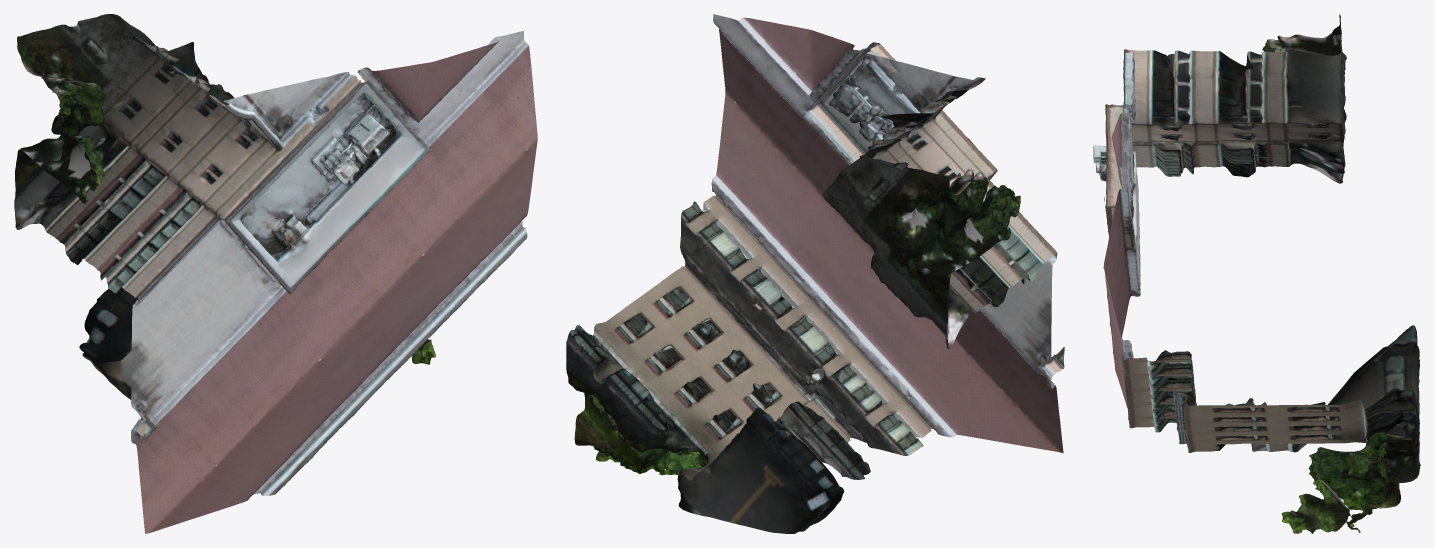
Rendered from Tile_+005_+024.fbx.
3 renders of one model, left to right at view 1: azimuth 30°, elevation 25°; view 2: azimuth 150°, elevation 25°; view 3: azimuth 270°, elevation 25°, orthographic. The views are drawn at different scales.
Parts seen in each view (by area): view 1: DefaultName; view 2: DefaultName; view 3: DefaultName.
Boxes of the visible parts, <box> form: DefaultName: <box>14,14,537,533</box>; DefaultName: <box>566,14,1064,533</box>; DefaultName: <box>1093,14,1420,533</box>.
Size of the model in its own units: 22.54 by 22.54 by 18.88.
